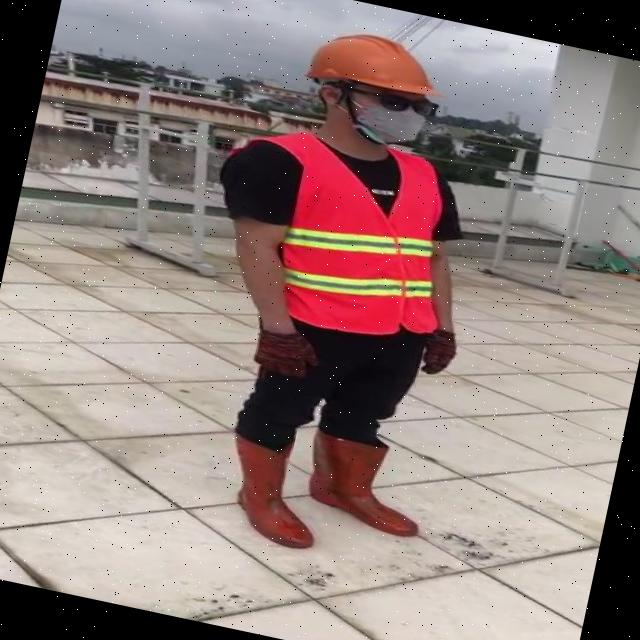boots: (301, 429, 435, 539), (214, 432, 334, 552)
